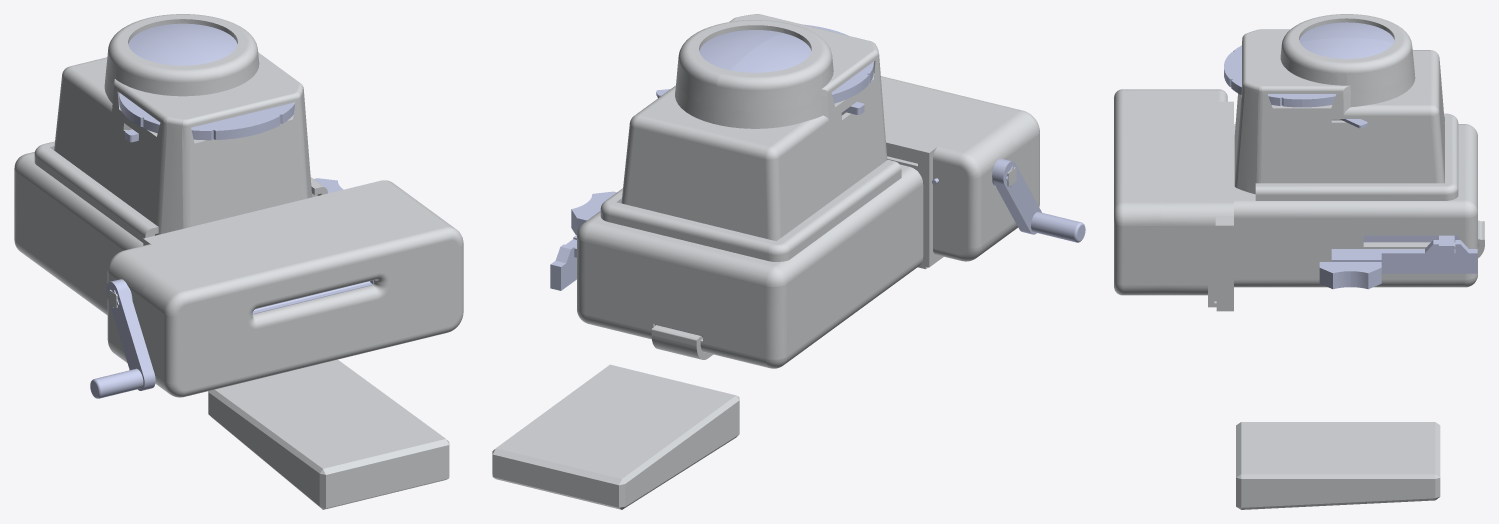
Rendered from camera-v3.glb.
3 views of the same model, side by side, from view 1: azimuth 30°, elevation 25°; view 2: azimuth 150°, elevation 25°; view 3: azimuth 270°, elevation 25° (orthographic). The views are drawn at different scales.
Visible parts, largest first — view 1: 4000 - Case - PrinterCase, Box 4001_Défaut, film dimensions_Défaut, Tank case^Tank case 7003_Camera V3_Défaut, Glass, 1125 - Printer - CrankHandle, Wheel^Shutter_Défaut; view 2: Tank case^Tank case 7003_Camera V3_Défaut, Box 4001_Défaut, film dimensions_Défaut, 4000 - Case - PrinterCase, Glass, 1125 - Printer - CrankHandle, Trap 6001_Défaut, lever support 6007_Défaut, Wheel^Shutter_Défaut, Handle 2^Tank 6000_Défaut; view 3: Box 4001_Défaut, Tank case^Tank case 7003_Camera V3_Défaut, 4000 - Case - PrinterCase, film dimensions_Défaut, lever support 6007_Défaut, Glass, Handle 2^Tank 6000_Défaut, Wheel^Shutter_Défaut, lever 6006_Défaut.
Part boxes in pixels (x1,y1,x2,y2): 4000 - Case - PrinterCase: [107, 180, 463, 397]; Box 4001_Défaut: [54, 14, 317, 236]; film dimensions_Défaut: [208, 359, 449, 509]; Tank case^Tank case 7003_Camera V3_Défaut: [14, 141, 327, 315]; Glass: [128, 23, 237, 65]; 1125 - Printer - CrankHandle: [90, 279, 155, 398]; Wheel^Shutter_Défaut: [119, 93, 295, 140]; Tank case^Tank case 7003_Camera V3_Défaut: [577, 155, 927, 368]; Box 4001_Défaut: [621, 14, 887, 241]; film dimensions_Défaut: [492, 364, 739, 509]; 4000 - Case - PrinterCase: [881, 76, 1039, 267]; Glass: [699, 30, 811, 72]; 1125 - Printer - CrankHandle: [992, 158, 1085, 242]; Trap 6001_Défaut: [651, 325, 713, 359]; lever support 6007_Défaut: [550, 235, 576, 290]; Wheel^Shutter_Défaut: [802, 24, 873, 103]; Handle 2^Tank 6000_Défaut: [571, 191, 616, 234]; Box 4001_Défaut: [1234, 14, 1444, 194]; Tank case^Tank case 7003_Camera V3_Défaut: [1216, 113, 1477, 311]; 4000 - Case - PrinterCase: [1114, 89, 1233, 307]; film dimensions_Défaut: [1236, 422, 1440, 509]; lever support 6007_Défaut: [1331, 240, 1477, 273]; Glass: [1299, 22, 1394, 58]; Handle 2^Tank 6000_Défaut: [1319, 262, 1381, 289]; Wheel^Shutter_Défaut: [1224, 45, 1335, 107]; lever 6006_Défaut: [1363, 235, 1454, 253].
Bounding box in the file's own units: 0.1861 × 0.193 × 0.168.
